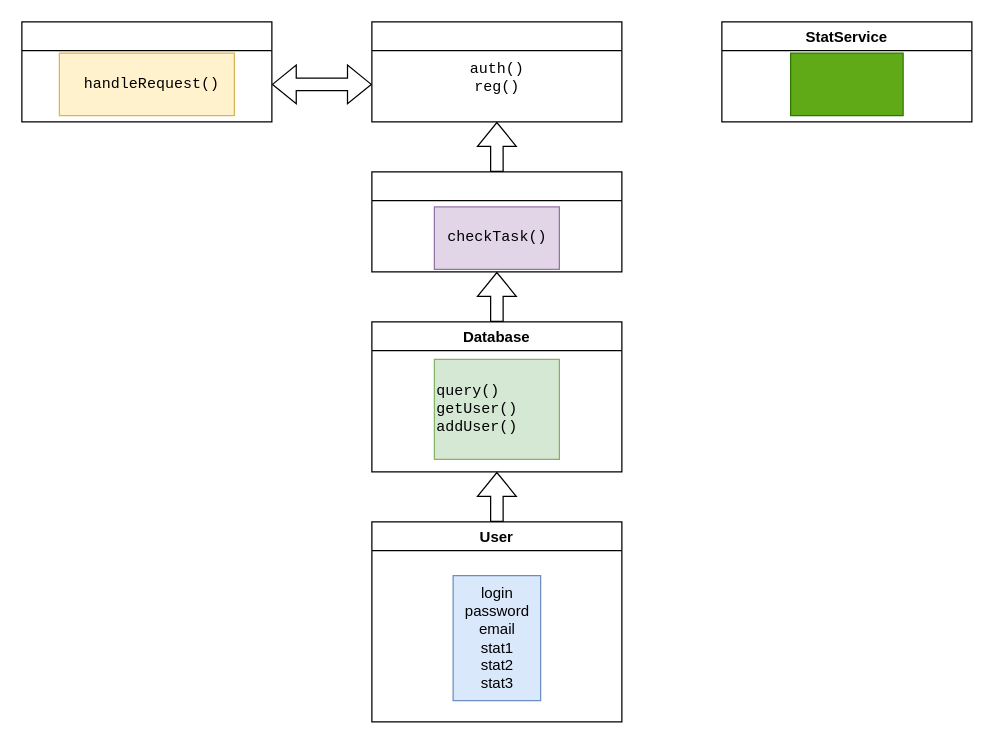
The diagram is 994 pixels wide and 744 high, and some of its shapes have lost their labels. Here are the shapes that lost their labels. From the top down, the box of each, then its label:
(21, 21, 272, 122): ServerController
(371, 21, 622, 122): AuthService
(789, 52, 903, 116): getStat()
(371, 171, 622, 272): Container
